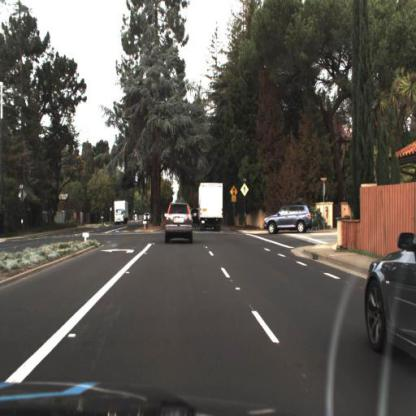car: (364, 224, 416, 370), (160, 194, 196, 252), (263, 202, 314, 238), (196, 180, 229, 234), (264, 202, 313, 233), (113, 197, 134, 231), (144, 212, 150, 224)
truck: (199, 181, 224, 232), (114, 199, 128, 225)
